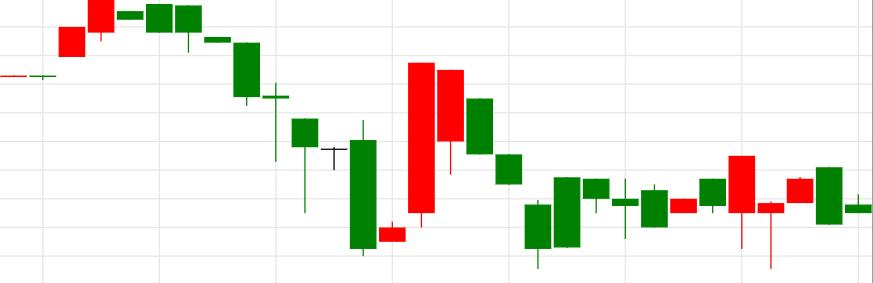hammer_rise: (146, 4, 318, 213)
